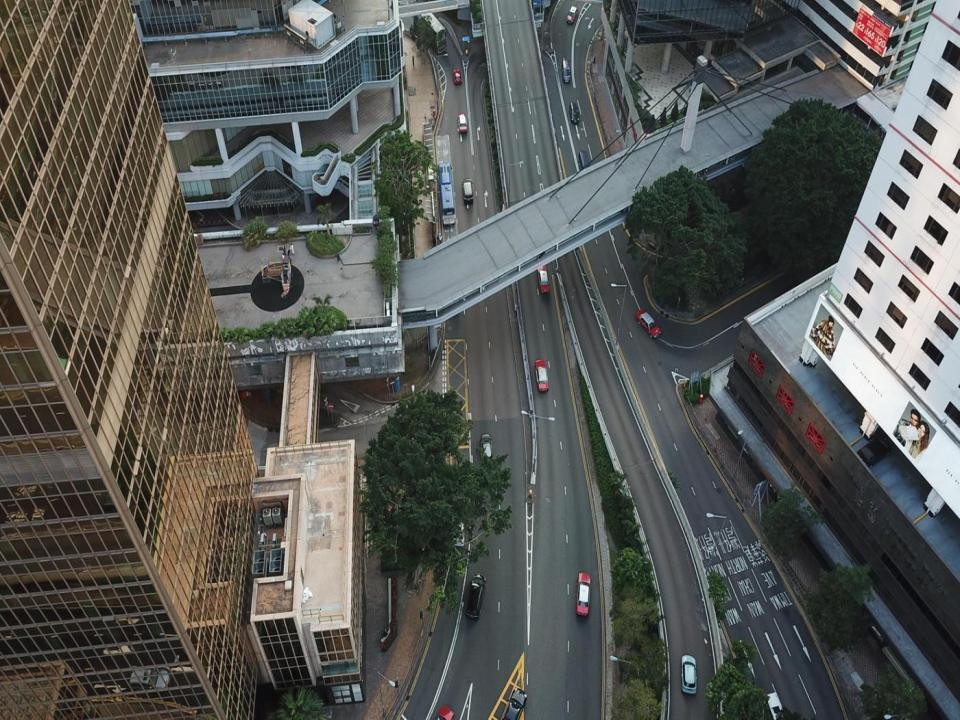bus: (418, 7, 448, 57), (437, 161, 456, 228)
car: (461, 572, 486, 620), (575, 572, 593, 621), (633, 307, 660, 337), (502, 688, 528, 719), (680, 654, 698, 696), (536, 258, 552, 297), (534, 357, 551, 393), (478, 432, 492, 464), (562, 53, 575, 85), (463, 178, 474, 206), (450, 68, 465, 86), (571, 100, 580, 129), (459, 111, 467, 140)
van: (578, 148, 593, 179), (567, 4, 581, 25), (260, 530, 266, 554), (271, 533, 278, 550)
